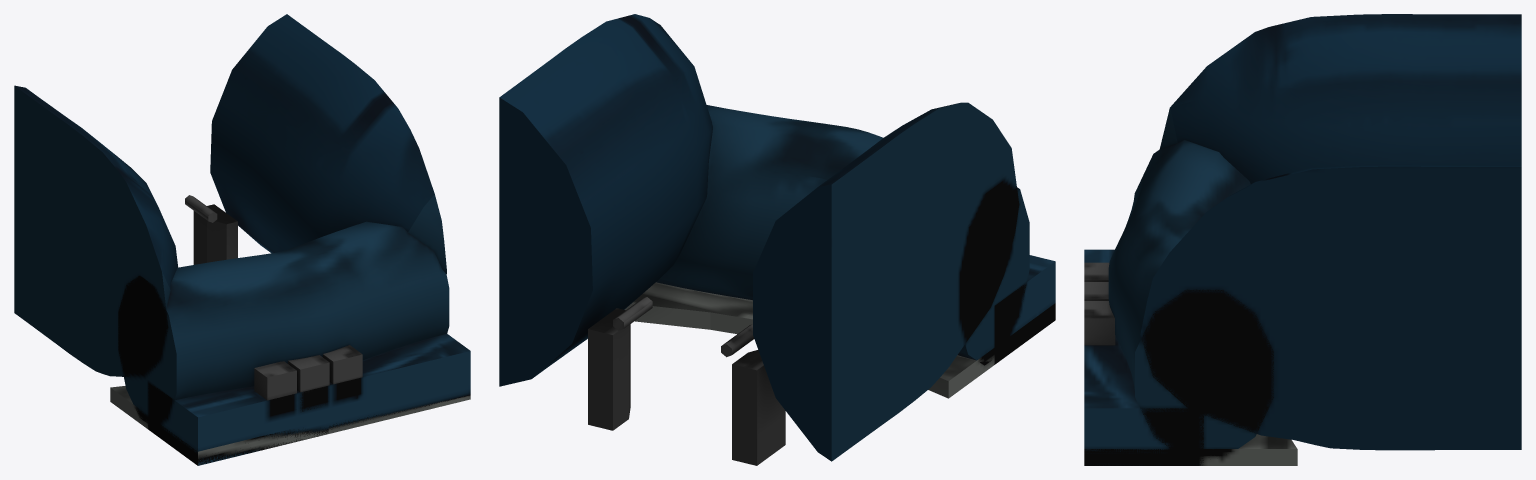
The model's file is newshb-81.glb.
3 renders of one model, left to right at view 1: azimuth 30°, elevation 25°; view 2: azimuth 150°, elevation 25°; view 3: azimuth 270°, elevation 25°, orthographic. The views are drawn at different scales.
Visible parts, largest first — view 1: newshb-81; view 2: newshb-81; view 3: newshb-81.
Part boxes in pixels (bbox=[...]): newshb-81: bbox=[14, 14, 470, 465]; newshb-81: bbox=[499, 14, 1055, 465]; newshb-81: bbox=[1084, 14, 1521, 465].
Bounding box in the file's own units: 2 × 1.76 × 2.33.
6 materials, 6 textured.
